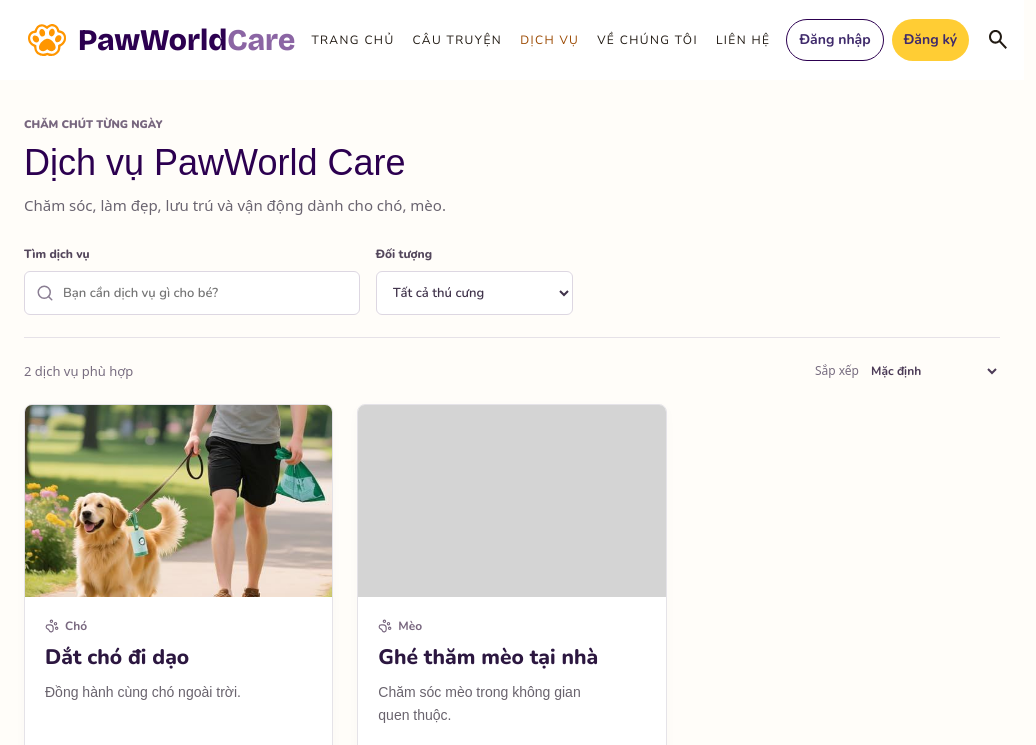
Test: service list filters catalog results by Vietnamese search and species
expect the heading "Dắt chó đi dạo" is shown: met, box x1=45 y1=643 x2=189 y2=671
expect the heading "Ghé thăm mèo tại nhà" is shown: met, box x1=378 y1=643 x2=598 y2=671
Type "dắt chó" into the search field labelled "Tìm dịch vụ" at (192, 293), box x1=24 y1=271 x2=360 y2=315
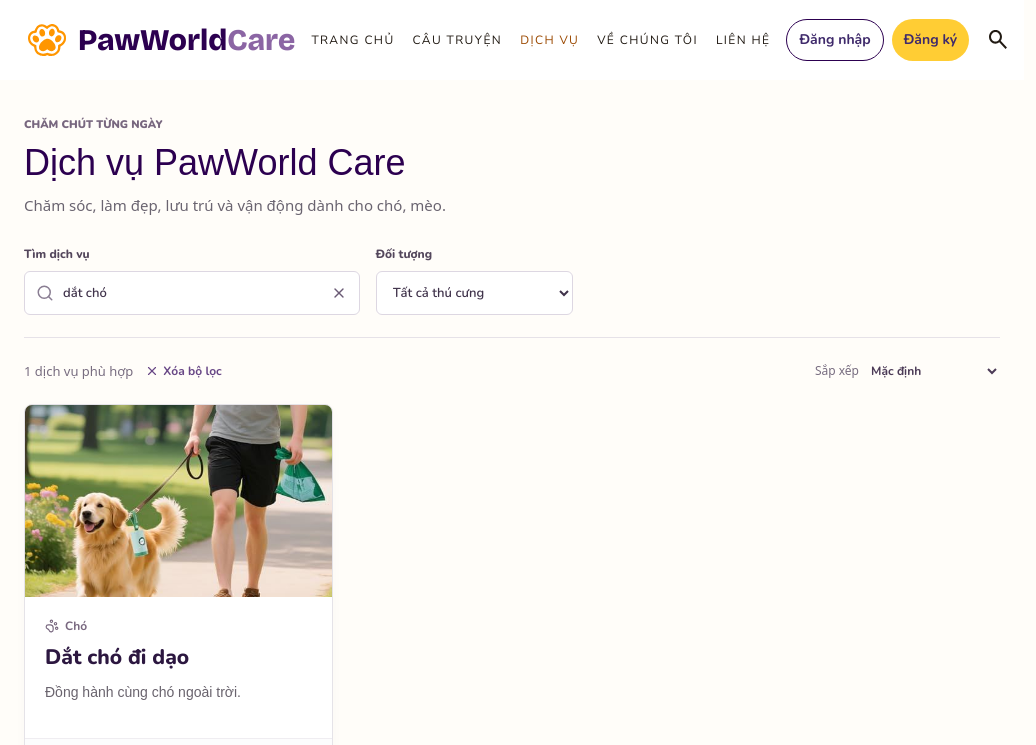
expect the heading "Dắt chó đi dạo" is shown: met, box x1=45 y1=643 x2=189 y2=671
expect the link "Ghé thăm mèo tại nhà" is gone: met
Select "Mèo" in the dropdown labelled "Đối tượng" at (474, 293), box x1=376 y1=271 x2=573 y2=315
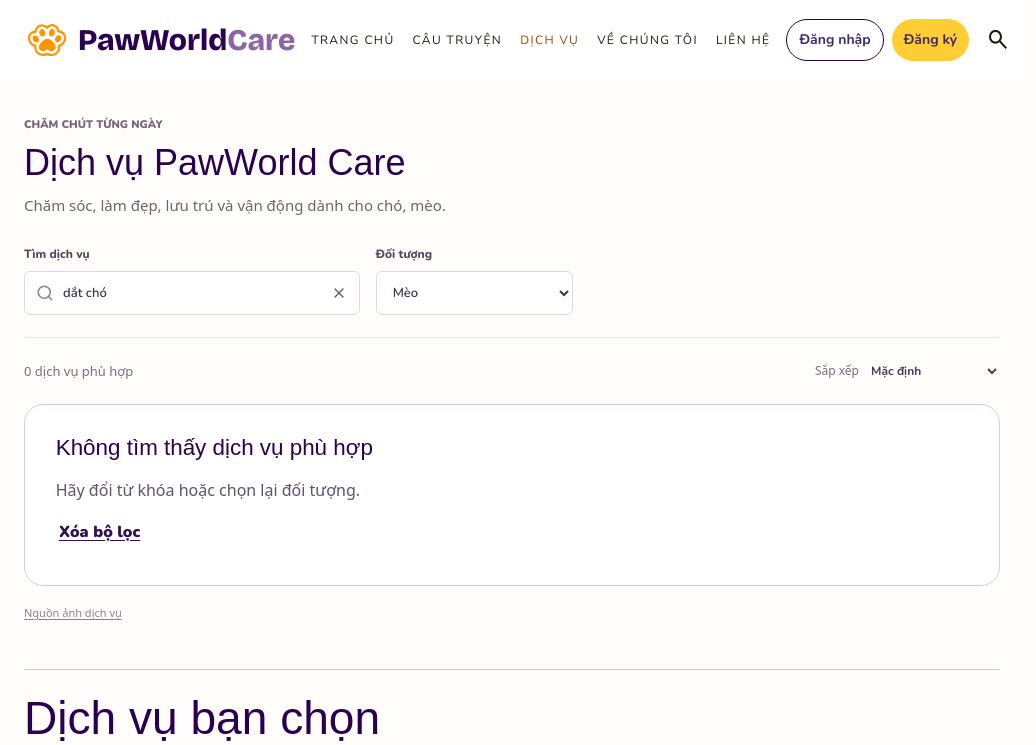
expect the heading "Không tìm thấy dịch vụ phù hợp" is shown: met, box x1=56 y1=436 x2=373 y2=460
Click the button "Xóa bộ lọc" at (100, 532), box x1=56 y1=510 x2=143 y2=554
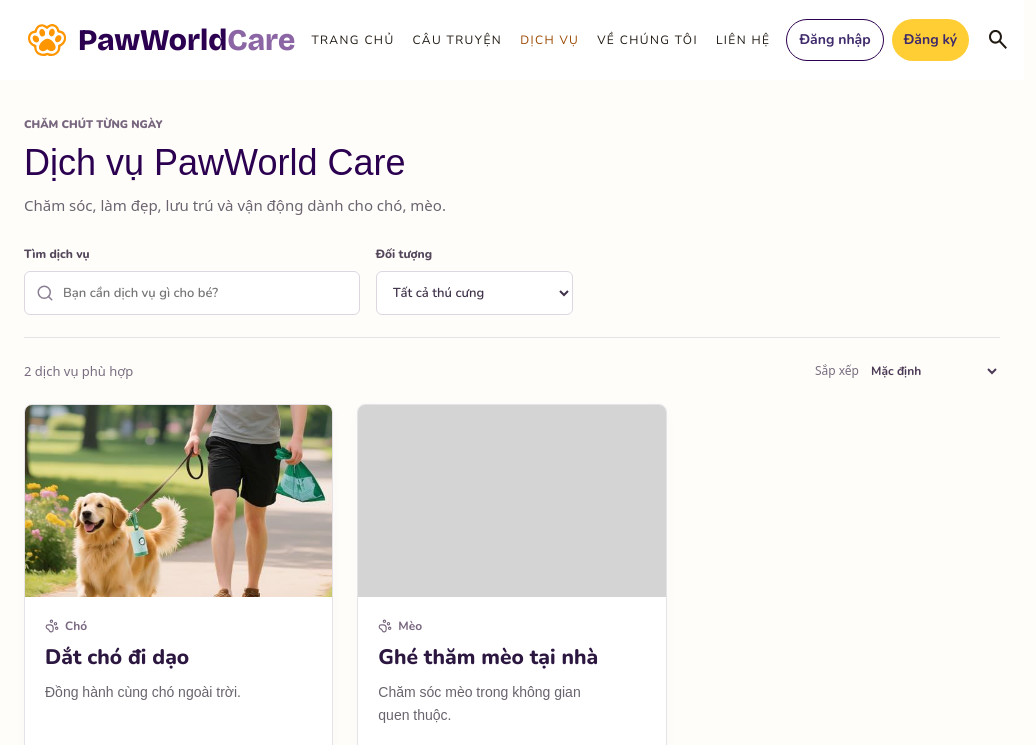
expect the heading "Ghé thăm mèo tại nhà" is shown: met, box x1=378 y1=643 x2=598 y2=671
